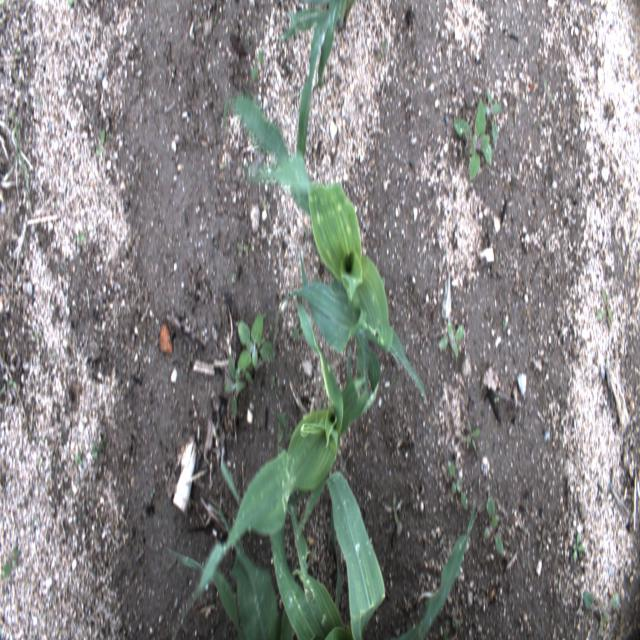crop: (221, 94, 429, 405), (185, 294, 382, 610), (163, 441, 477, 639), (280, 0, 355, 184)
weed: (453, 98, 493, 181), (2, 115, 30, 204), (237, 313, 277, 371), (582, 588, 620, 636), (224, 354, 248, 423), (481, 87, 504, 150), (484, 494, 504, 555), (447, 460, 469, 511), (438, 321, 465, 362), (0, 546, 20, 580), (382, 494, 403, 524), (596, 289, 614, 323), (467, 417, 481, 452), (572, 528, 584, 564), (252, 49, 265, 81), (536, 526, 548, 552), (96, 129, 105, 158), (90, 442, 102, 461), (75, 452, 83, 465), (75, 233, 85, 243), (35, 330, 39, 344)
